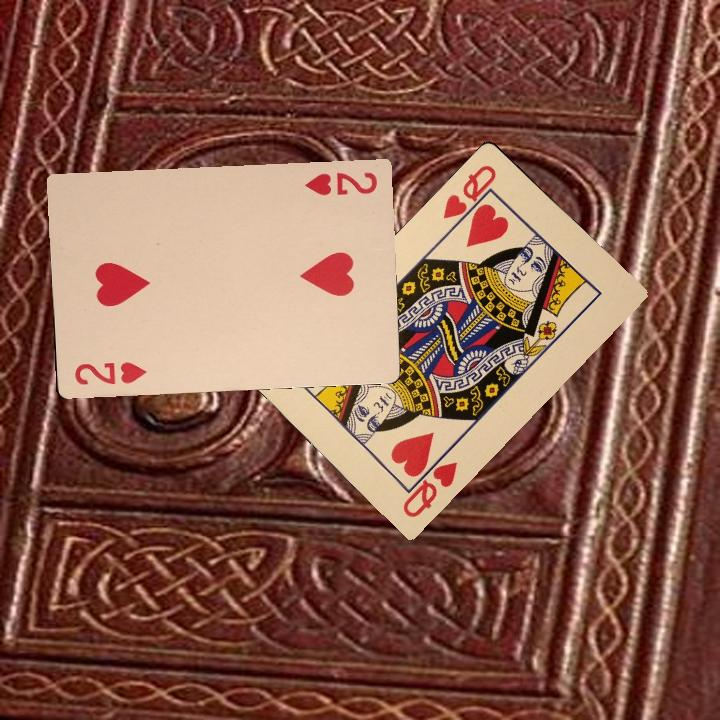2h: (300, 168, 380, 198), (70, 358, 148, 387)
Qh: (398, 446, 461, 520), (438, 161, 499, 232)
